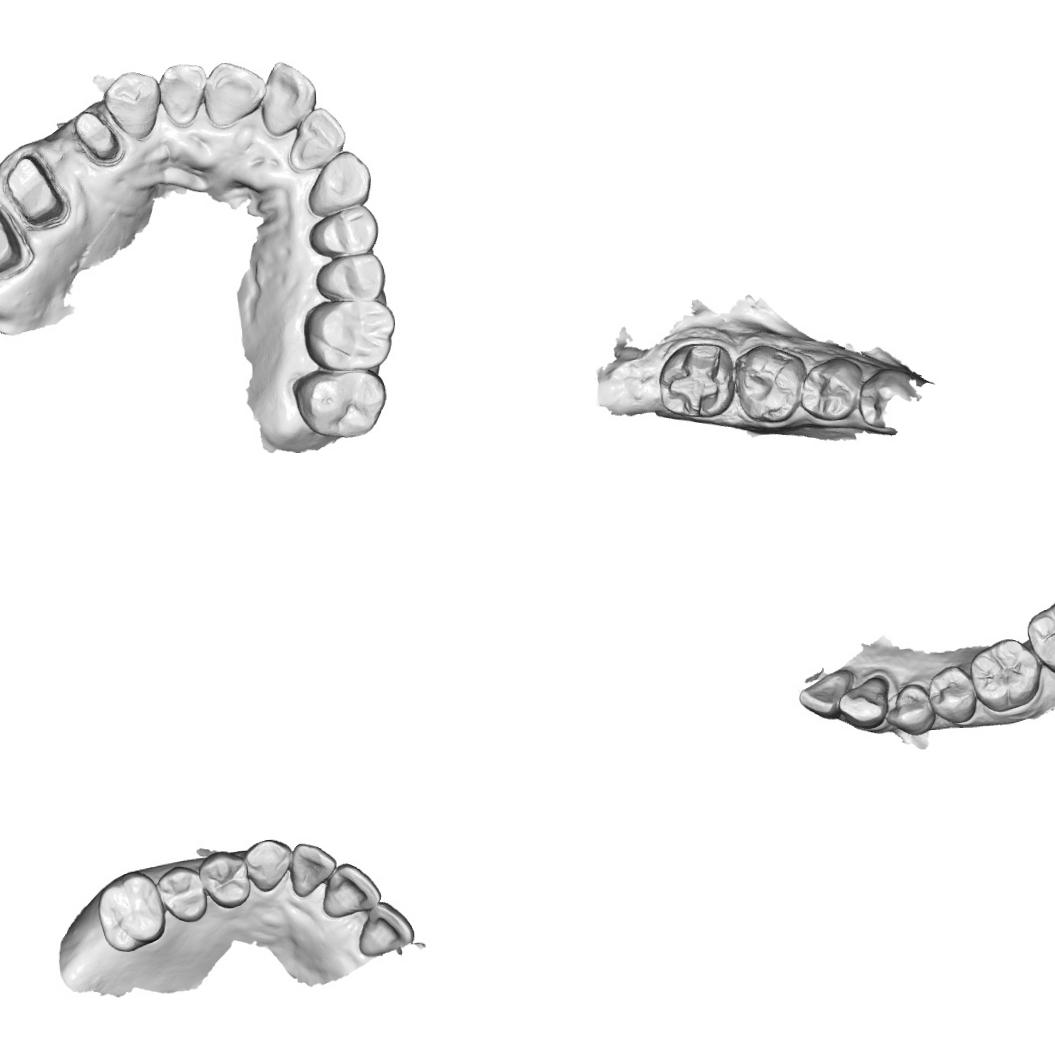canine: (304, 148, 374, 216), (101, 69, 163, 144), (836, 673, 892, 731), (243, 836, 294, 894)
crown: (2, 147, 70, 230), (70, 108, 129, 171), (0, 201, 25, 277)
incisor: (200, 59, 269, 128), (258, 60, 319, 138), (287, 104, 348, 171), (355, 899, 417, 959), (320, 860, 382, 919), (158, 60, 210, 127), (796, 667, 856, 719), (288, 841, 339, 897)
inlay: (664, 344, 730, 416)
molar: (300, 296, 398, 375), (292, 367, 390, 441), (732, 342, 808, 424), (967, 636, 1044, 714), (95, 872, 168, 954), (1023, 594, 1055, 679)
premolar: (799, 354, 863, 424), (304, 203, 380, 261), (313, 249, 389, 305), (856, 367, 915, 430), (926, 662, 978, 726), (198, 850, 252, 910), (158, 864, 210, 924), (884, 680, 935, 738)
